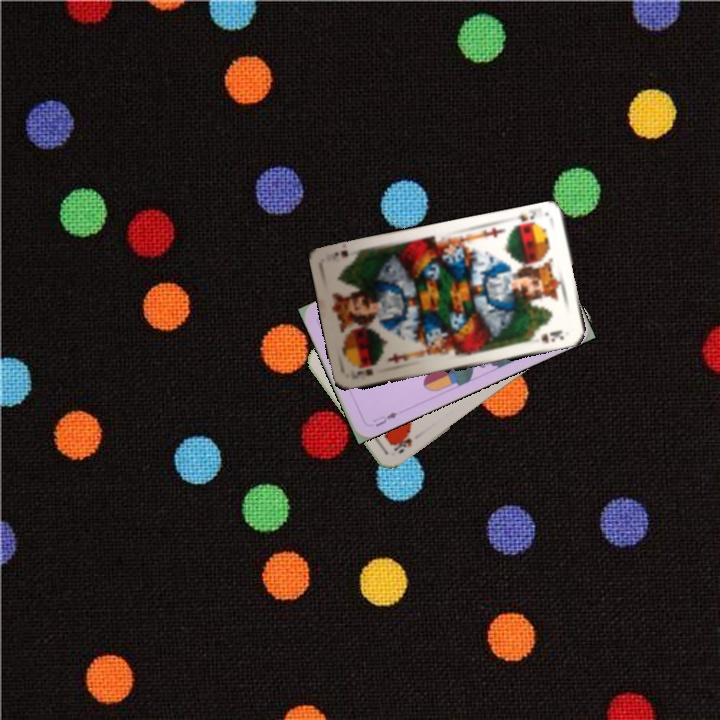EU: (369, 408, 400, 430)
HO: (389, 431, 415, 456)
SK: (510, 207, 541, 231), (348, 364, 375, 379)
